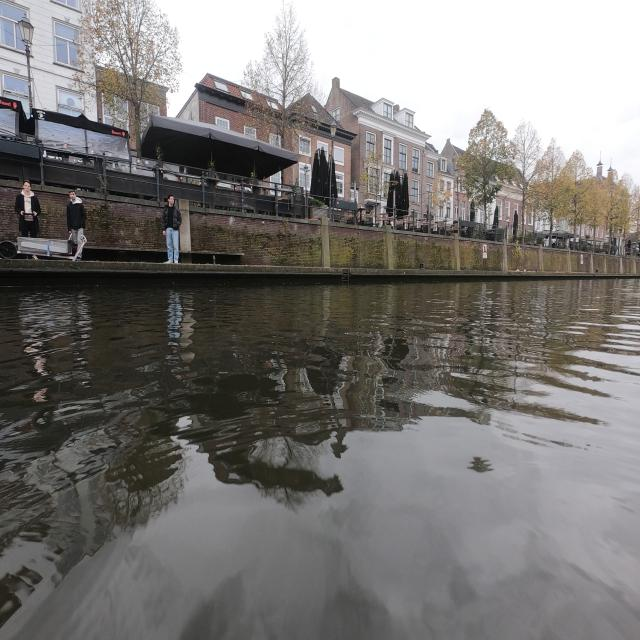dock: (0, 259, 640, 282)
sky: (292, 0, 640, 184), (156, 0, 282, 115)
water: (0, 278, 640, 639)
